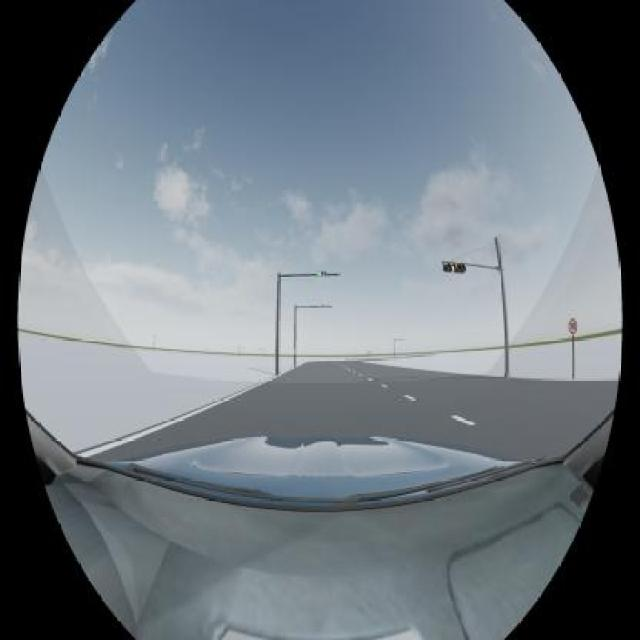forb_speed_over_100: (569, 317, 578, 335)
